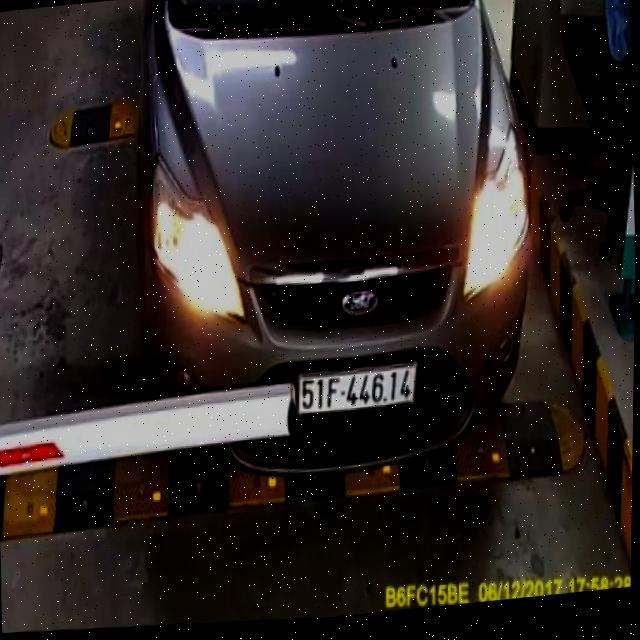car: (125, 0, 557, 503)
plate: (287, 353, 426, 424)
